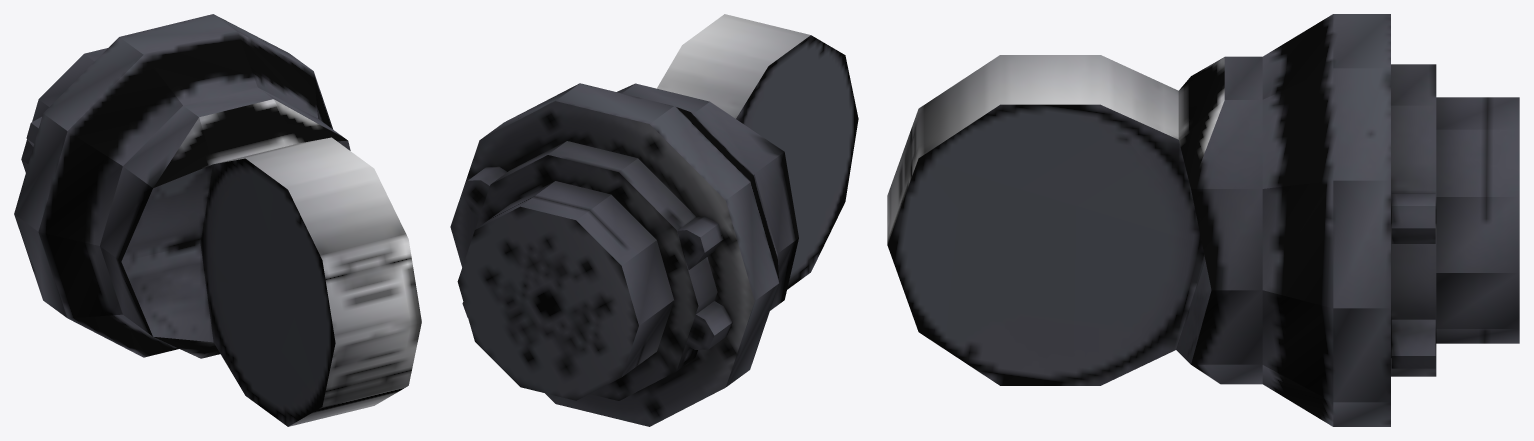
The model's file is l_hand.obj.
The picture shows the model from 3 angles, left to right: view 1: azimuth 30°, elevation 25°; view 2: azimuth 150°, elevation 25°; view 3: azimuth 270°, elevation 25°; orthographic projection. The views are drawn at different scales.
Parts seen in each view (by area): view 1: <dummy_root>; view 2: <dummy_root>; view 3: <dummy_root>.
Part boxes in pixels (x1=…): <dummy_root>: x1=14, y1=14, x2=421, y2=426; <dummy_root>: x1=450, y1=14, x2=858, y2=426; <dummy_root>: x1=887, y1=14, x2=1519, y2=426.
Bounding box in the file's own units: 0.1021 × 0.0971 × 0.1551.
Materials: 1 (1 with a texture image).
